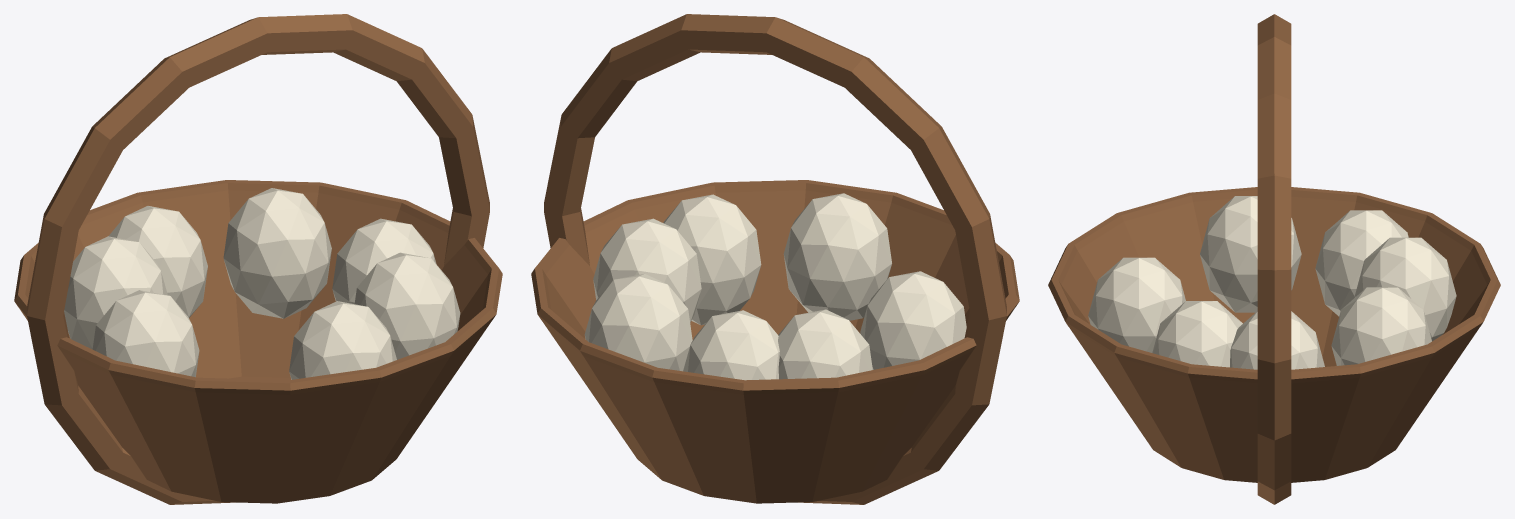
Rendered from Egg_Basket.glb.
3 views of the same model, side by side, from view 1: azimuth 30°, elevation 25°; view 2: azimuth 150°, elevation 25°; view 3: azimuth 270°, elevation 25° (orthographic). The views are drawn at different scales.
Visible parts, largest first — view 1: Egg_Basket; view 2: Egg_Basket; view 3: Egg_Basket.
Boxes of the visible parts, box(x1,y1,x2,y2) form: Egg_Basket: box(14, 14, 502, 504); Egg_Basket: box(531, 14, 1019, 504); Egg_Basket: box(1048, 14, 1500, 504).
Bounding box in the file's own units: 0.434 × 0.434 × 0.4.
